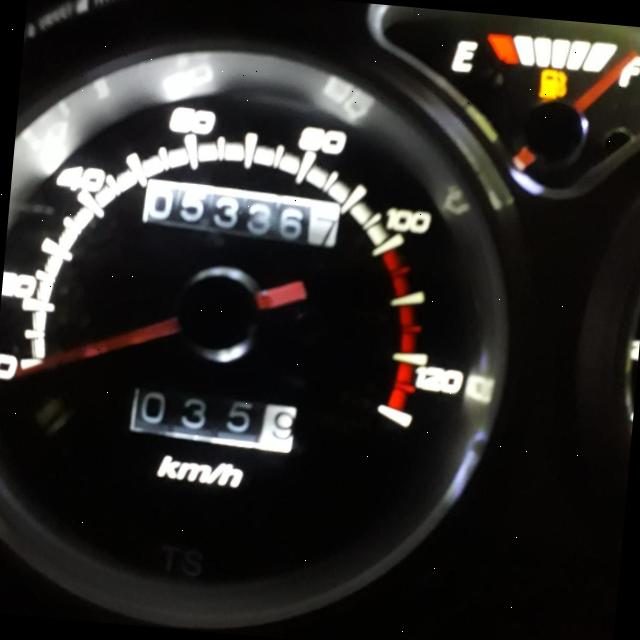odometer: (138, 174, 344, 251)
